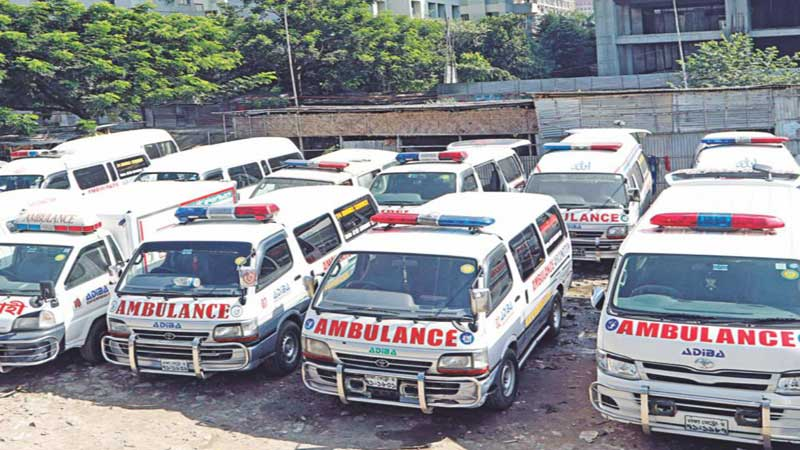ambulance: (302, 190, 572, 412), (593, 178, 800, 445), (104, 182, 377, 379), (1, 179, 236, 367), (521, 128, 653, 259), (370, 145, 527, 207), (1, 143, 153, 191), (250, 148, 400, 187), (695, 129, 800, 170)
